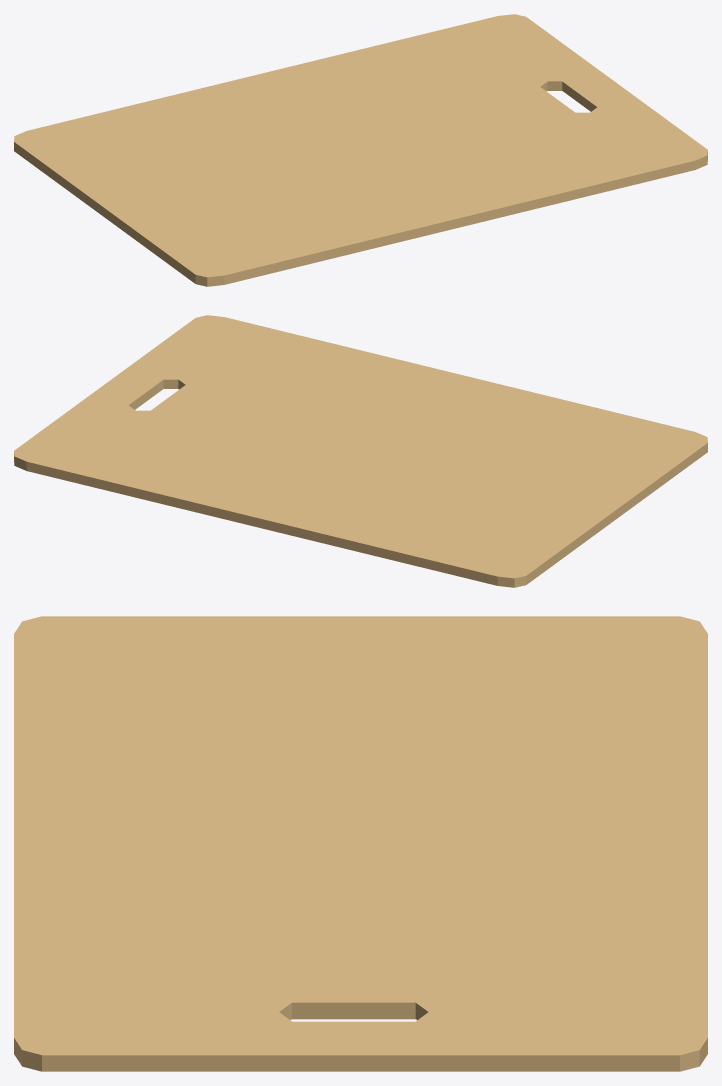
File: keycard.fbx
3 renders of one model, top to bottom at view 1: azimuth 30°, elevation 25°; view 2: azimuth 150°, elevation 25°; view 3: azimuth 270°, elevation 25°, orthographic. The views are drawn at different scales.
Parts seen in each view (by area): view 1: Card; view 2: Card; view 3: Card.
Boxes of the visible parts, left/top/right/bottom form: Card: left=14, top=14, right=707, bottom=286; Card: left=14, top=315, right=707, bottom=587; Card: left=14, top=616, right=707, bottom=1071.
Bounding box in the file's own units: 16.1 × 0.2824 × 10.75.
